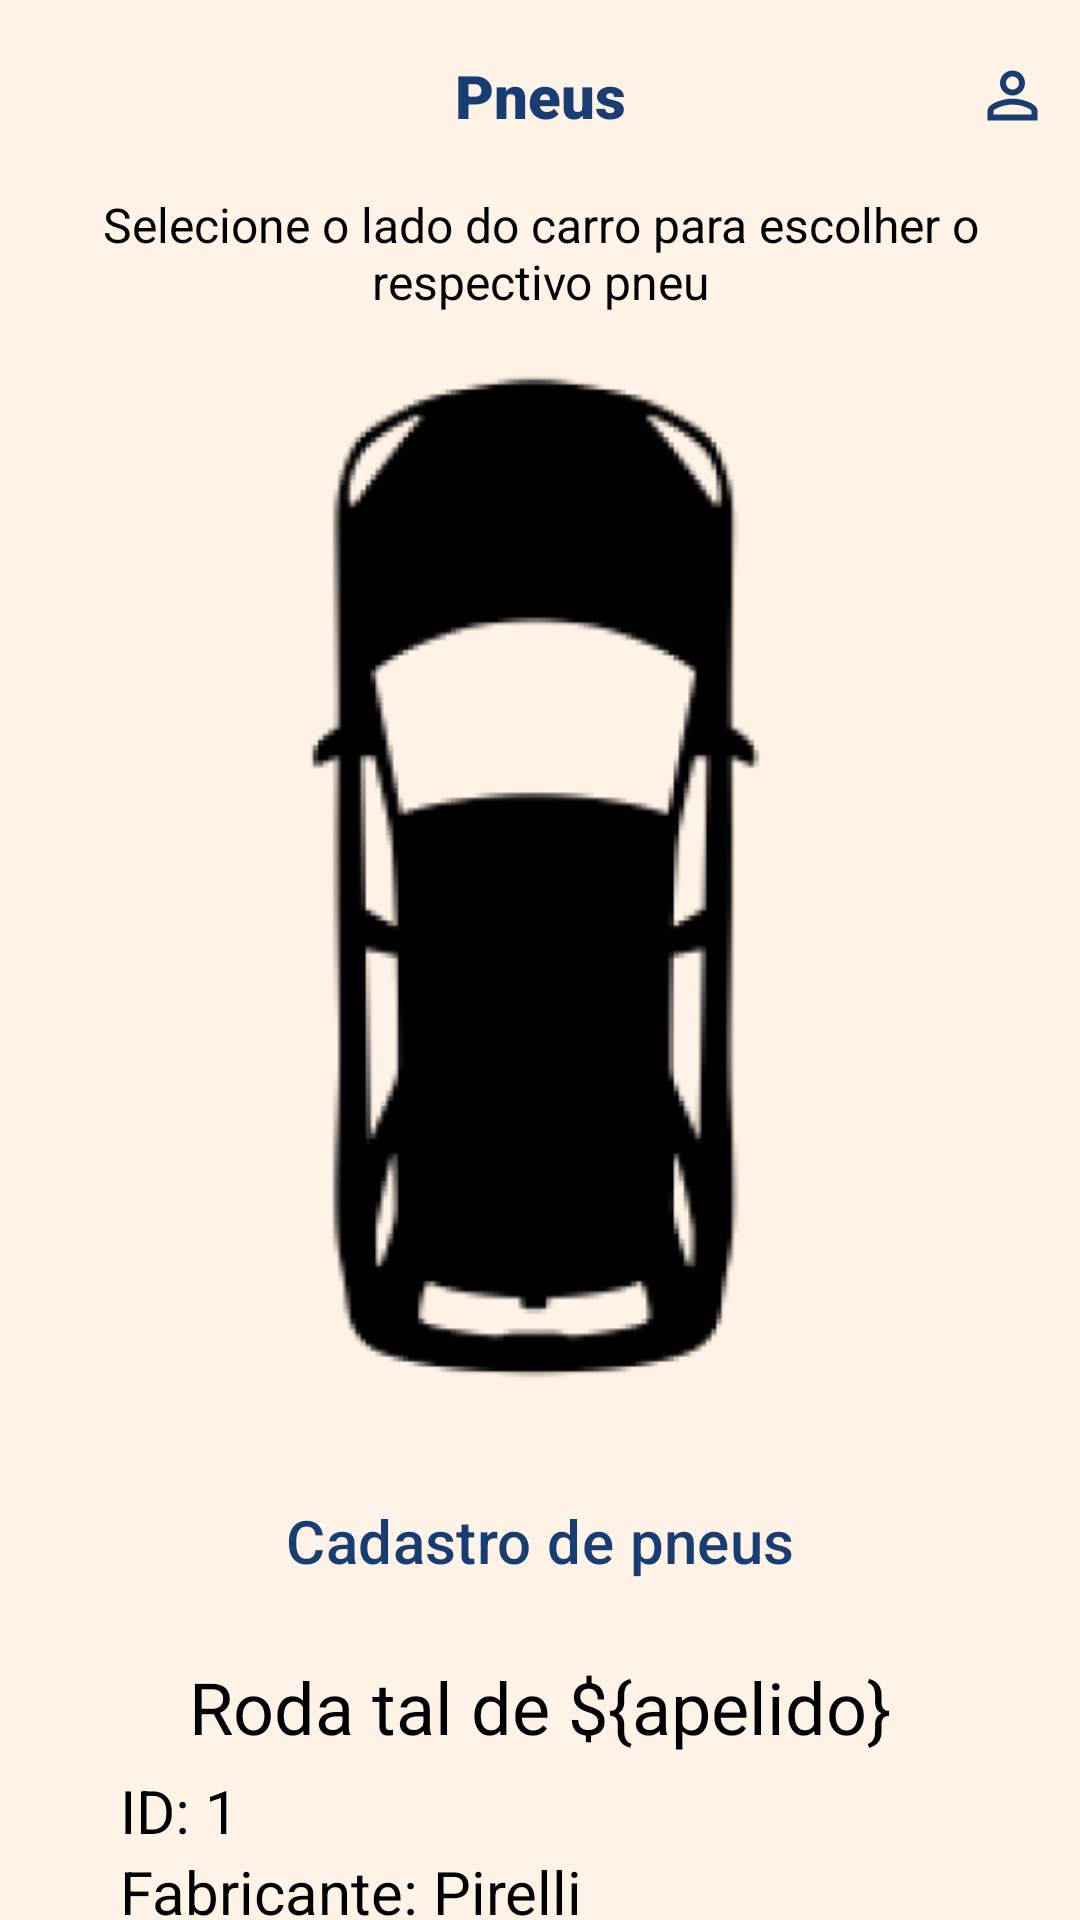

Named icons in this screenshot (1080 x 1920) and their bounding boxes, (x1, y1, x2, y2):
person: (987, 70, 1038, 121)
